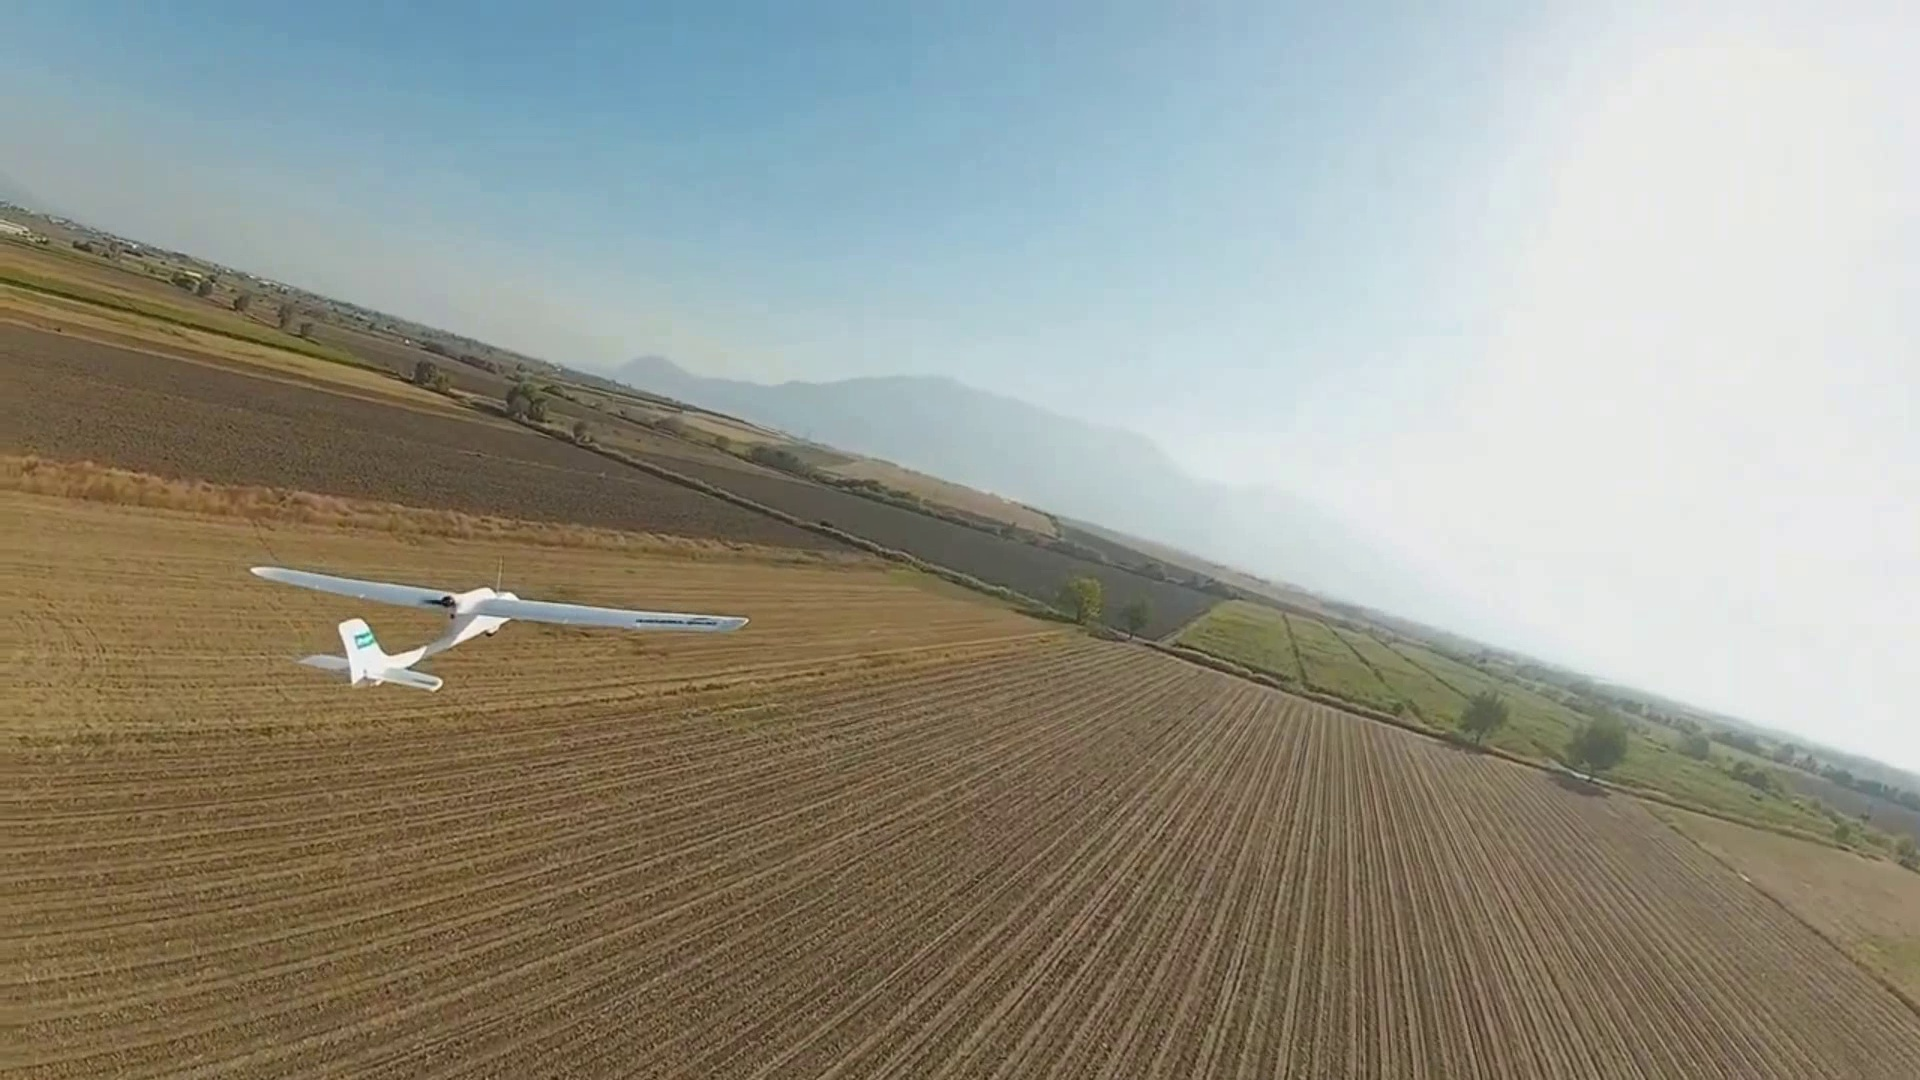airplane: (247, 561, 749, 692)
